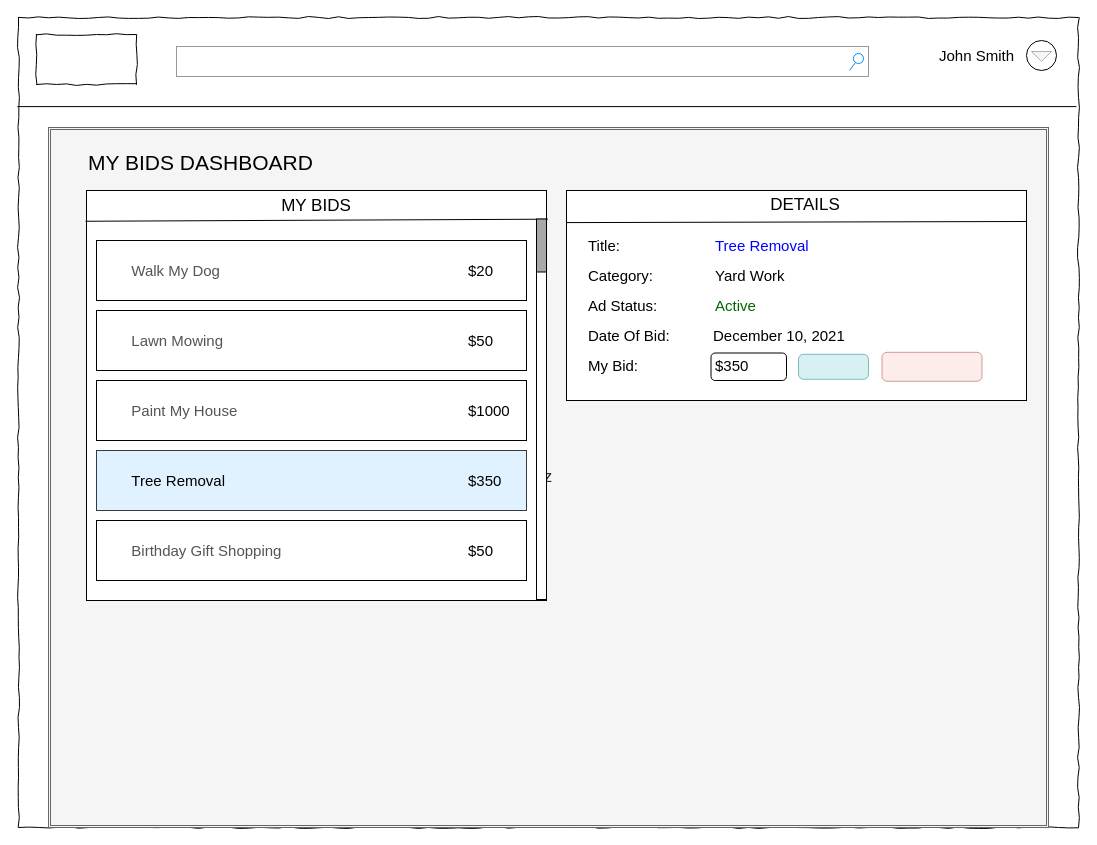
This 1097x845 diagram has some shape labels left out. The centre of each missing label's shape, as x and y in pixels:
"LOGO" goes at [86,59].
"Search" goes at [522,61].
"Update" goes at [833,366].
"Withdraw Bid" goes at [931,366].
